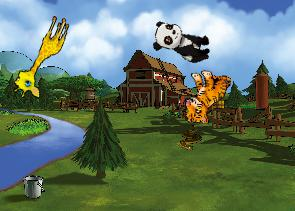giraffe: (9, 9, 72, 103)
panda: (149, 18, 215, 66)
tiger: (183, 68, 231, 125)
